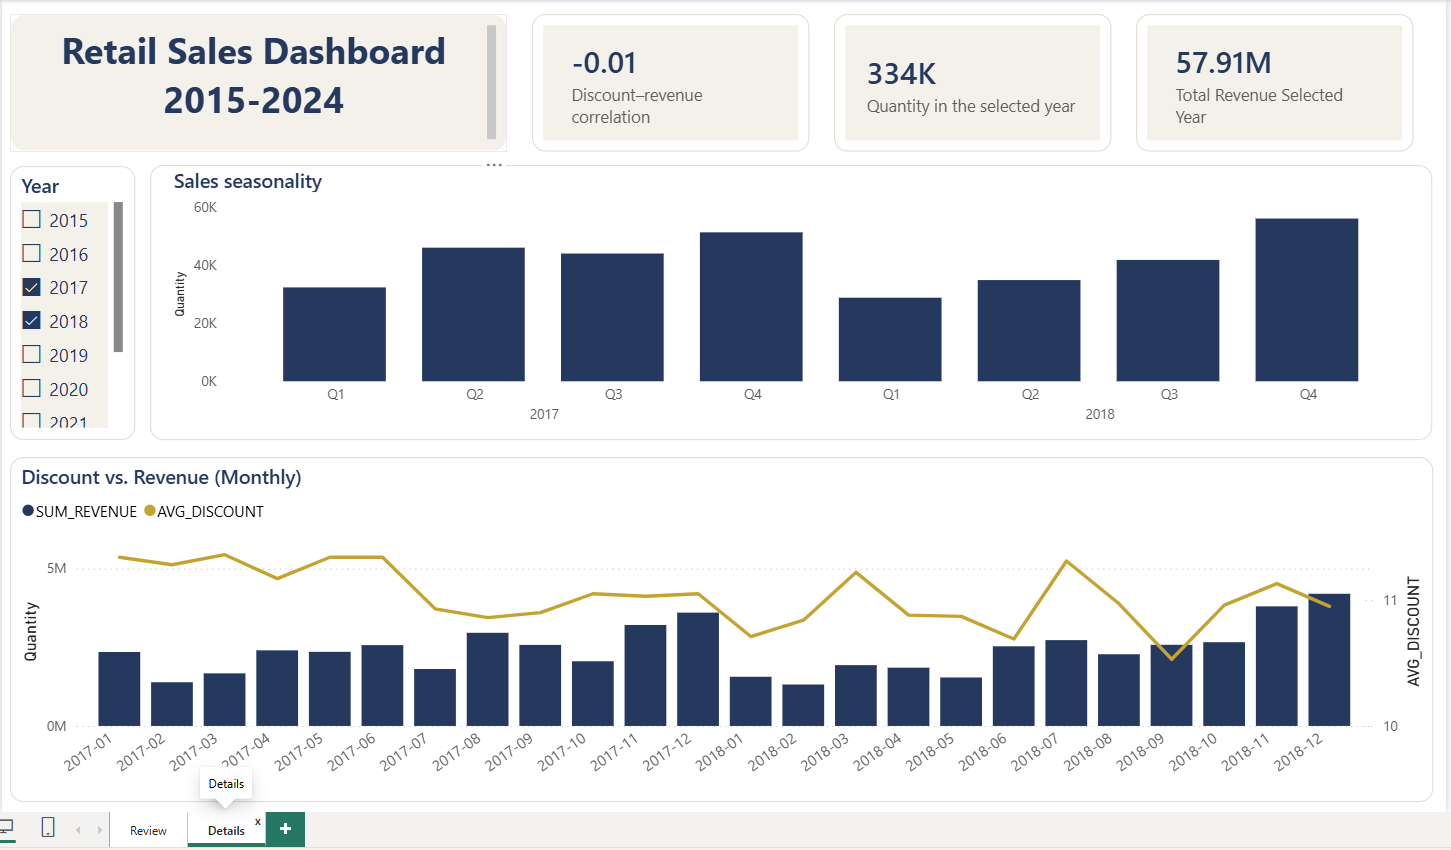

What the dashboard file says about the page in this screenshot:
{"tool":"powerbi","page":{"name":"Details","canvas":[1280,720],"ordinal":1},"visuals":[{"type":"listSlicer","title":"Year","fields":{"Values":["q4.DATA.Odmiana.Hierarchia dat.Rok"]},"box":[6.8,146.9,110.7,242.9],"z":0},{"type":"clusteredColumnChart","title":"Sales seasonality","fields":{"Y":["Sum(q4.SUM Quantity)"],"Category":["q4.Rok","q4.Quarter_EN"]},"box":[131.4,146.5,1137.2,244.2],"z":1000},{"type":"lineStackedColumnComboChart","title":"Discount vs. Revenue (Monthly)","fields":{"Y":["Sum(q5 csv.SUM_REVENUE)"],"Y2":["Sum(q5 csv.AVG_DISCOUNT)"],"Category":["q5 csv.YEAR_MONTH_FORMATTED"]},"box":[6.8,405.7,1262.2,306.2],"z":2000},{"type":"cardVisual","fields":{"Data":["q5 csv.Korelacja rabat–przychód"]},"box":[470.1,12.4,246.3,122],"z":3000},{"type":"cardVisual","fields":{"Data":["Sum(q4.SUM Quantity)"]},"box":[737.9,12.4,246.3,122],"z":4000},{"type":"cardVisual","fields":{"Data":["q1.Total Revenue Selected Year"]},"box":[1005.7,12.4,246.3,122],"z":5000},{"type":"textbox","box":[7,12.8,440.7,122.1],"z":6000}]}

Visuals, with their boxes on the page's 1280x720 design canvas (x1, y1, x2, y2). These are canvas units, not pixel positions in the 1451x850 screenshot, which may show the page scaled, cropped or inside an application window:
"Year" listSlicer: (x1=7, y1=147, x2=118, y2=390)
"Sales seasonality" clusteredColumnChart: (x1=131, y1=146, x2=1269, y2=391)
"Discount vs. Revenue (Monthly)" lineStackedColumnComboChart: (x1=7, y1=406, x2=1269, y2=712)
cardVisual - q5 csv.Korelacja rabat–przychód: (x1=470, y1=12, x2=716, y2=134)
cardVisual - Sum(q4.SUM Quantity): (x1=738, y1=12, x2=984, y2=134)
cardVisual - q1.Total Revenue Selected Year: (x1=1006, y1=12, x2=1252, y2=134)
textbox: (x1=7, y1=13, x2=448, y2=135)
